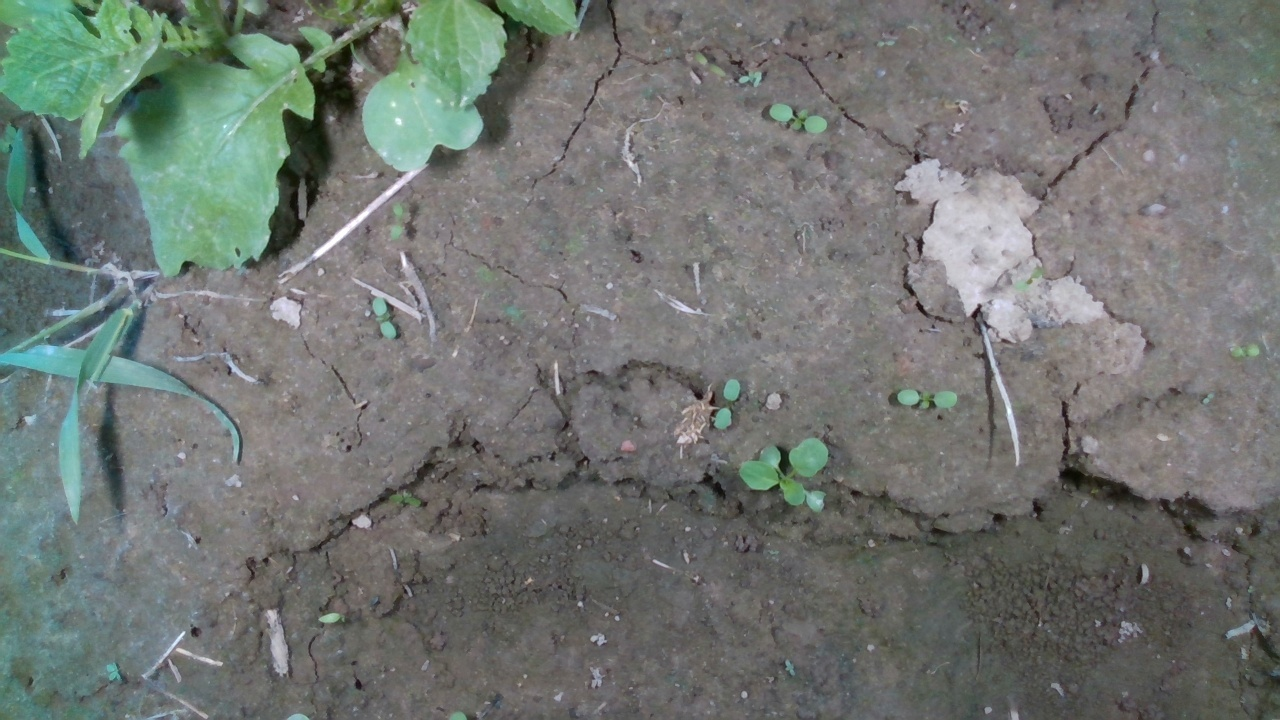weed: (767, 101, 829, 136), (895, 387, 959, 412), (712, 377, 741, 431), (370, 294, 398, 340), (691, 50, 728, 78), (1225, 341, 1261, 359), (104, 661, 122, 683), (1201, 391, 1213, 406)
